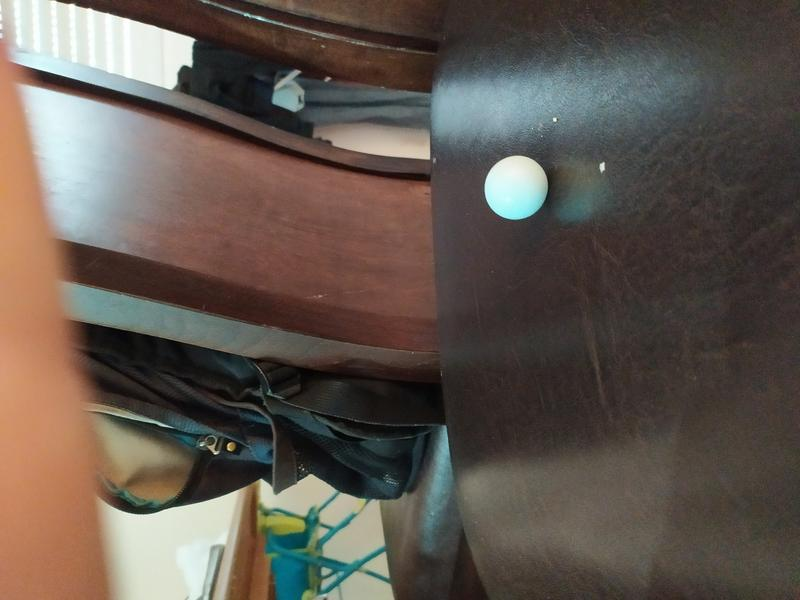Warning: (482, 152, 551, 223)
